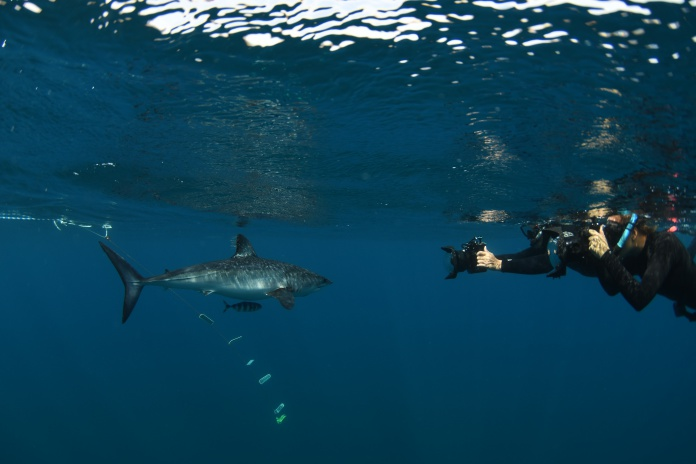Mako: (80, 226, 343, 327)
